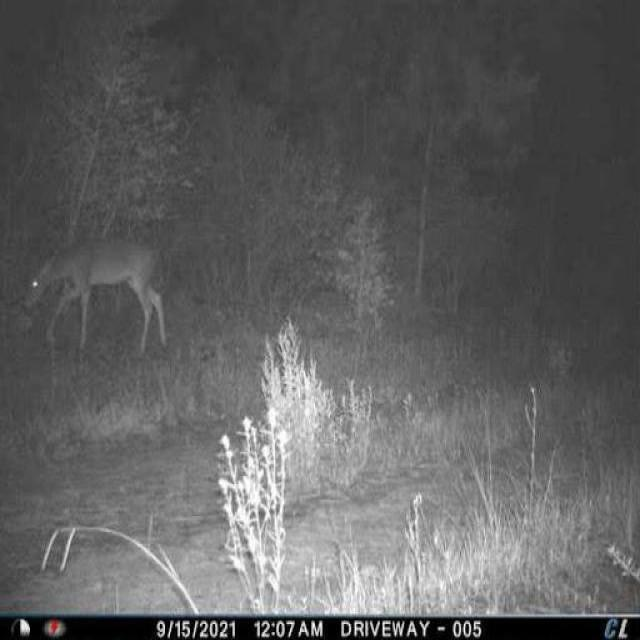deer: (15, 227, 179, 378)
